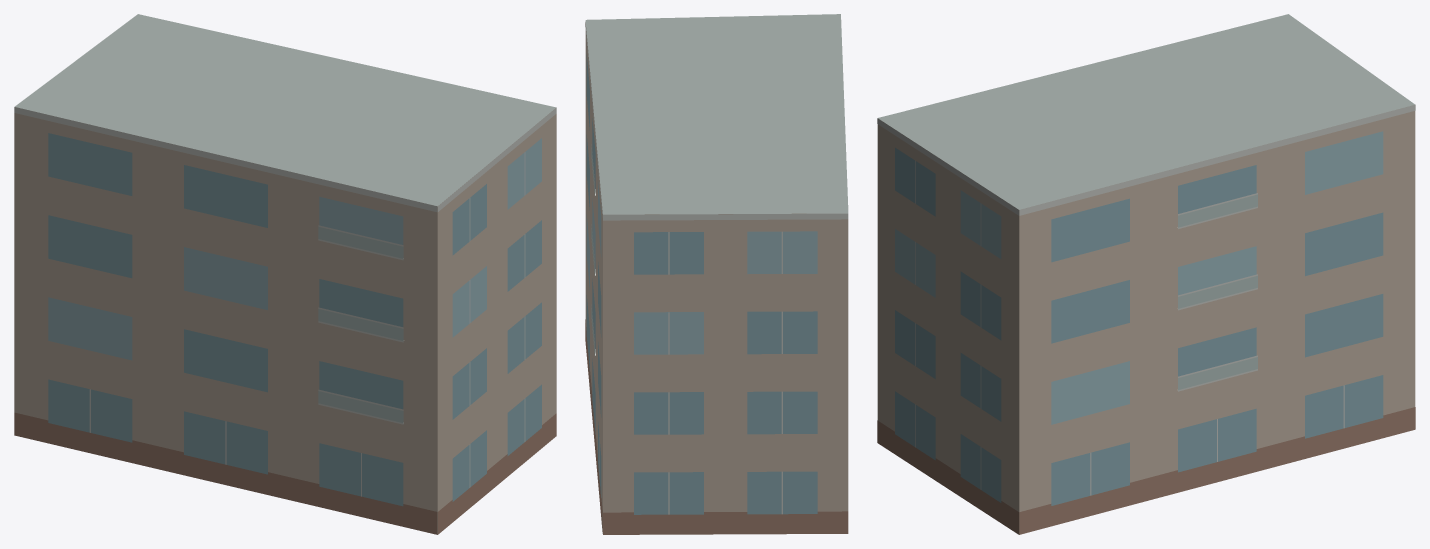
Rendered from survey-upis-32767549.glb.
3 views of the same model, side by side, from view 1: azimuth 30°, elevation 25°; view 2: azimuth 150°, elevation 25°; view 3: azimuth 270°, elevation 25° (orthographic). The views are drawn at different scales.
Visible parts, largest first — view 1: survey-upis-32767549.tmp; view 2: survey-upis-32767549.tmp; view 3: survey-upis-32767549.tmp.
Boxes of the visible parts, x1,y1,x2,y2 form: survey-upis-32767549.tmp: (14, 14, 556, 534); survey-upis-32767549.tmp: (585, 14, 848, 534); survey-upis-32767549.tmp: (877, 14, 1415, 534).
Bounding box in the file's own units: 17.08 × 13.2 × 19.81.
